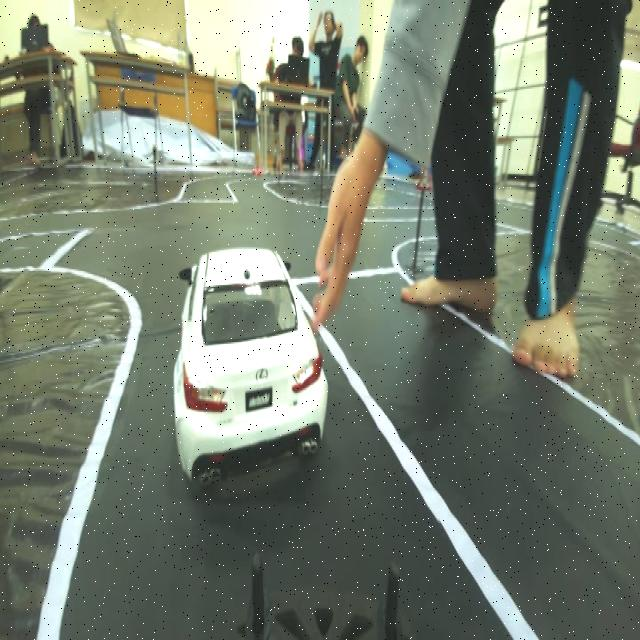car: (174, 218, 322, 501)
